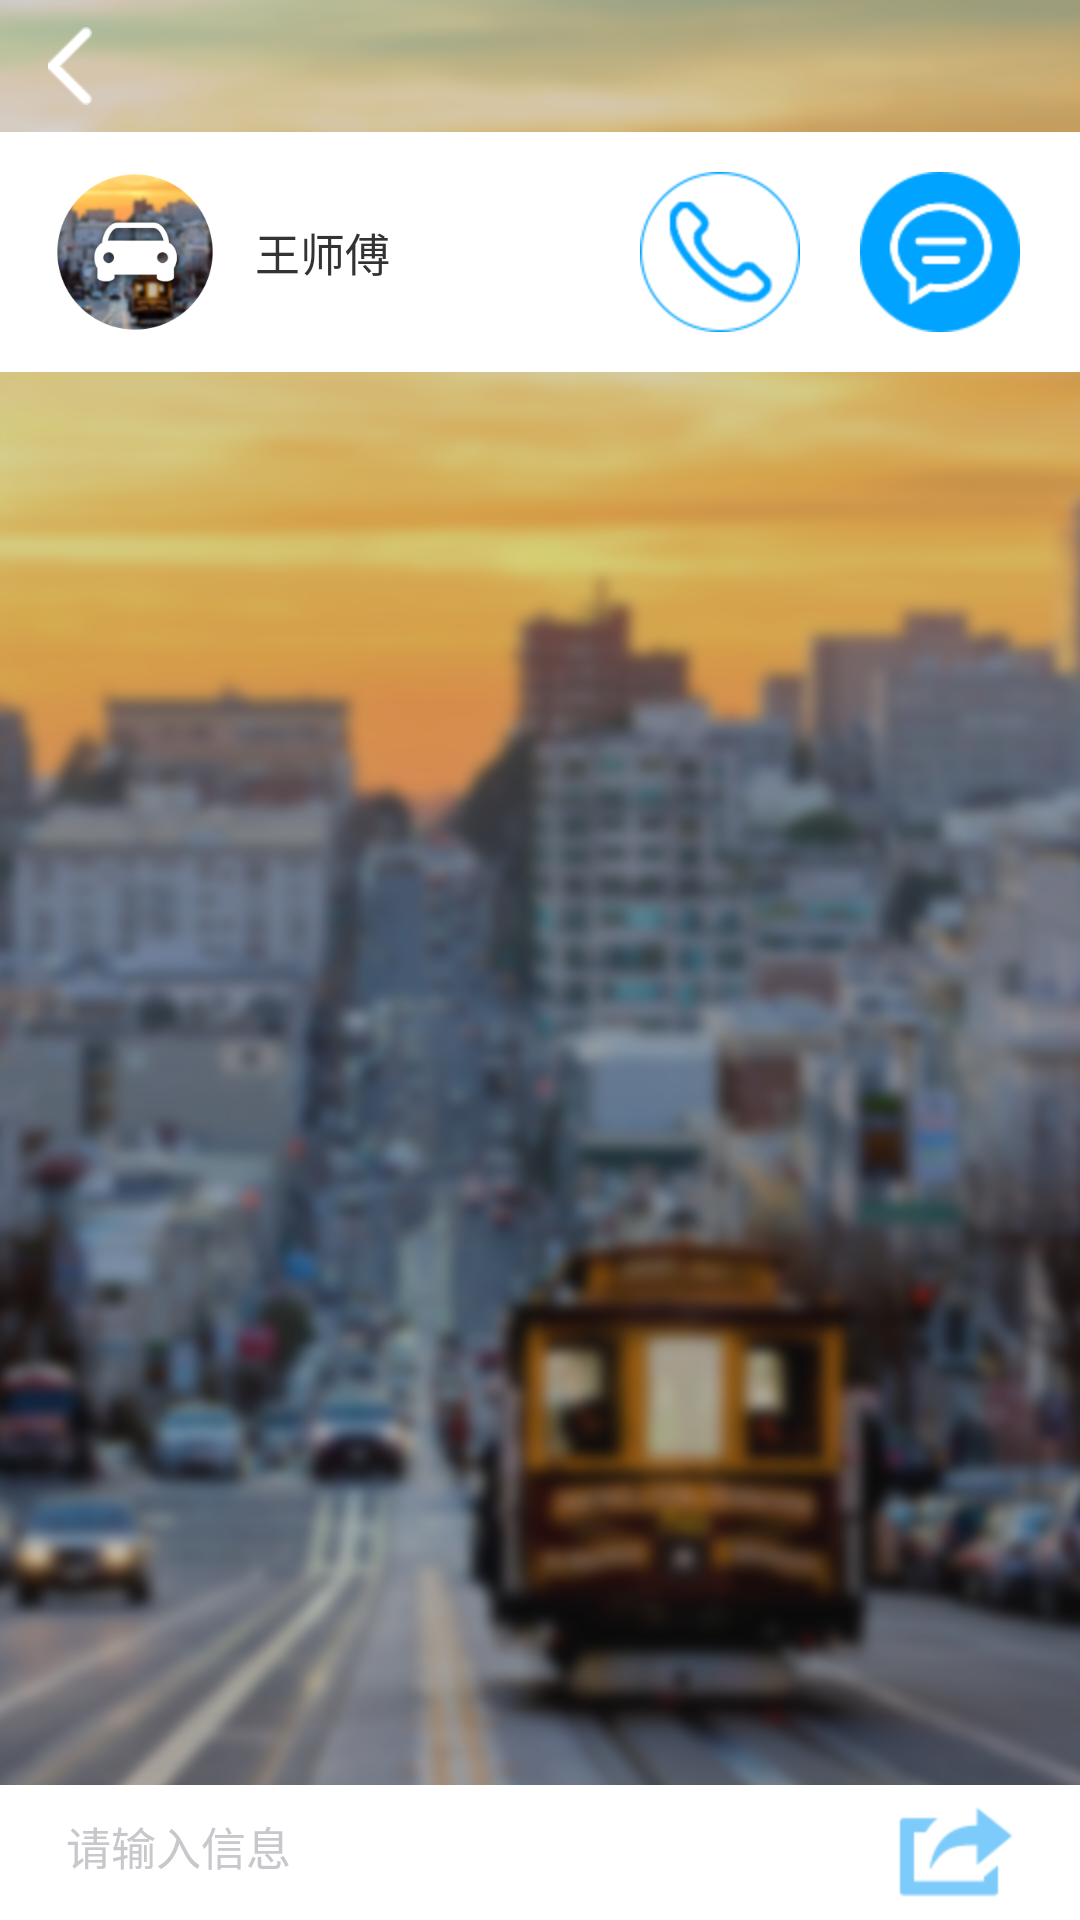

Named icons in this screenshot (1080x1920) and their bounding boxes, (x1, y1, x2, y2):
back: (48, 27, 92, 105)
